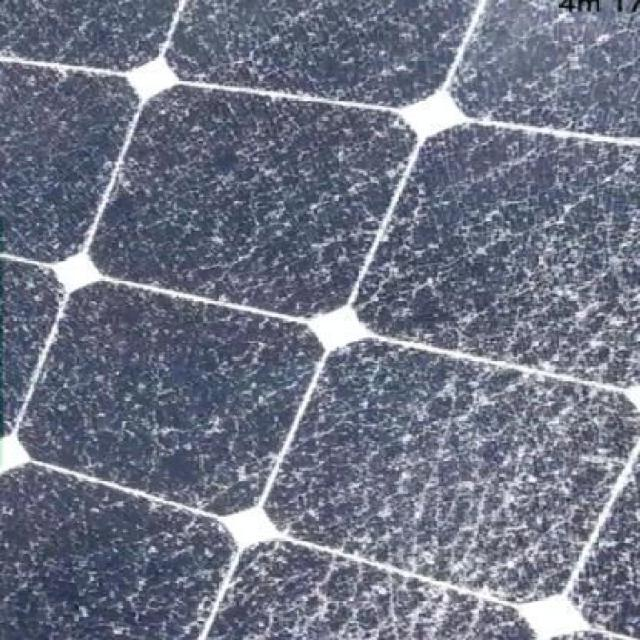cracked: (0, 3, 637, 639)
